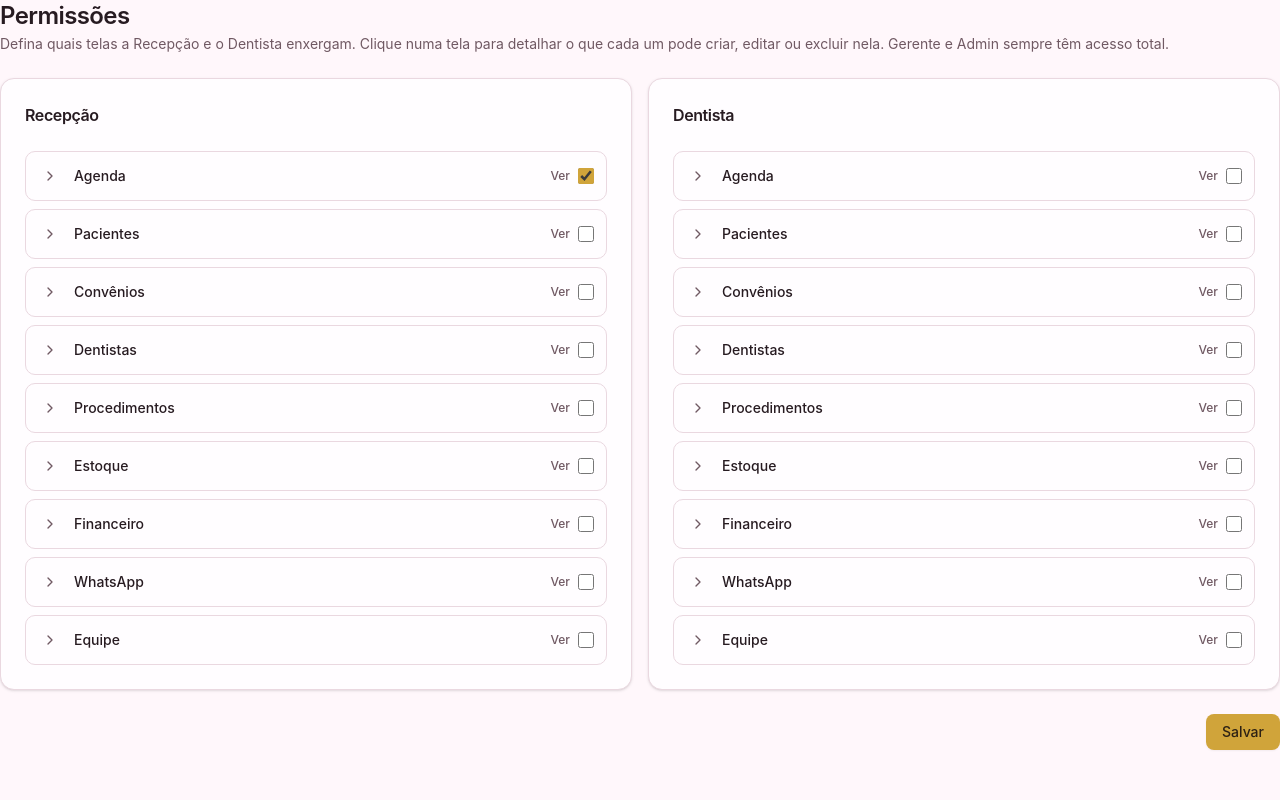
Test: PermissoesPage › expandir uma tela mostra as permissões descritivas de criar/editar/excluir
Click the 1st button named "Expandir permissões de Agenda" at x=50, y=176, box [38,164,62,188]
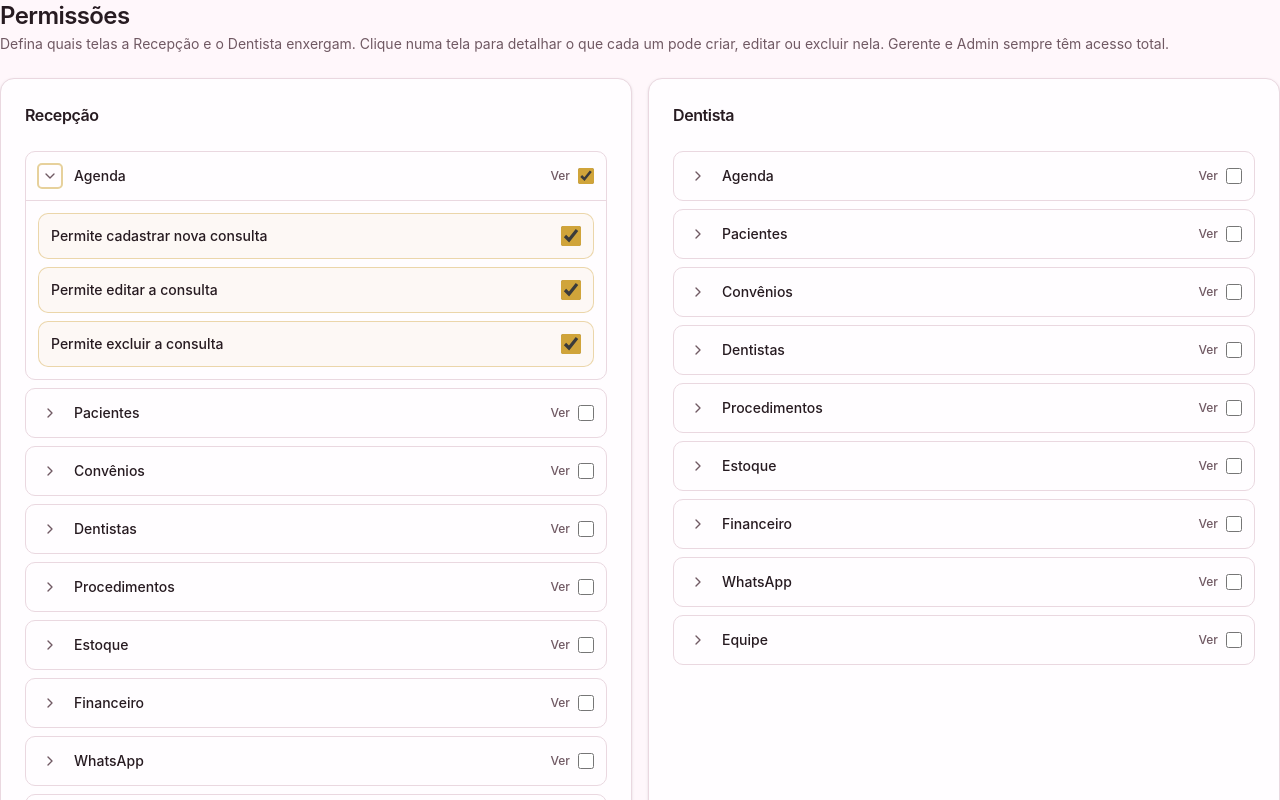
Expected: the text "Permite cadastrar nova consulta" is shown, [51,226,268,246]
Expected: the text "Permite editar a consulta" is shown, [51,280,218,300]
Expected: the text "Permite excluir a consulta" is shown, [51,334,224,354]
